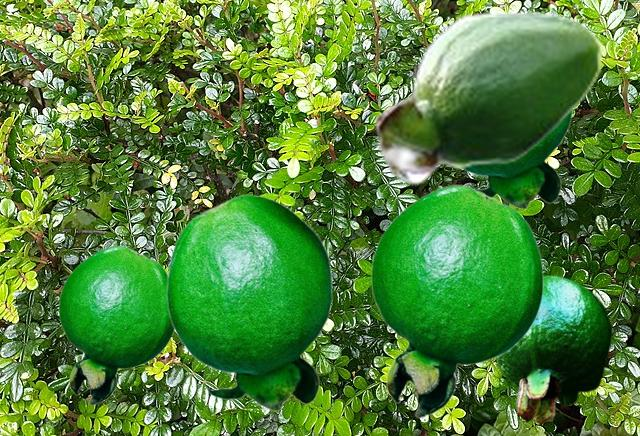guava: (374, 9, 604, 185), (370, 184, 543, 417), (165, 194, 332, 410), (58, 245, 173, 404), (495, 274, 612, 424), (464, 112, 572, 208)
